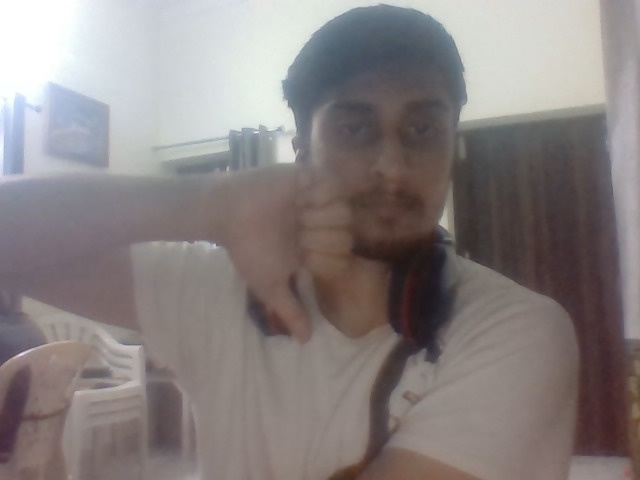ThumbsDown: (223, 164, 354, 343)
